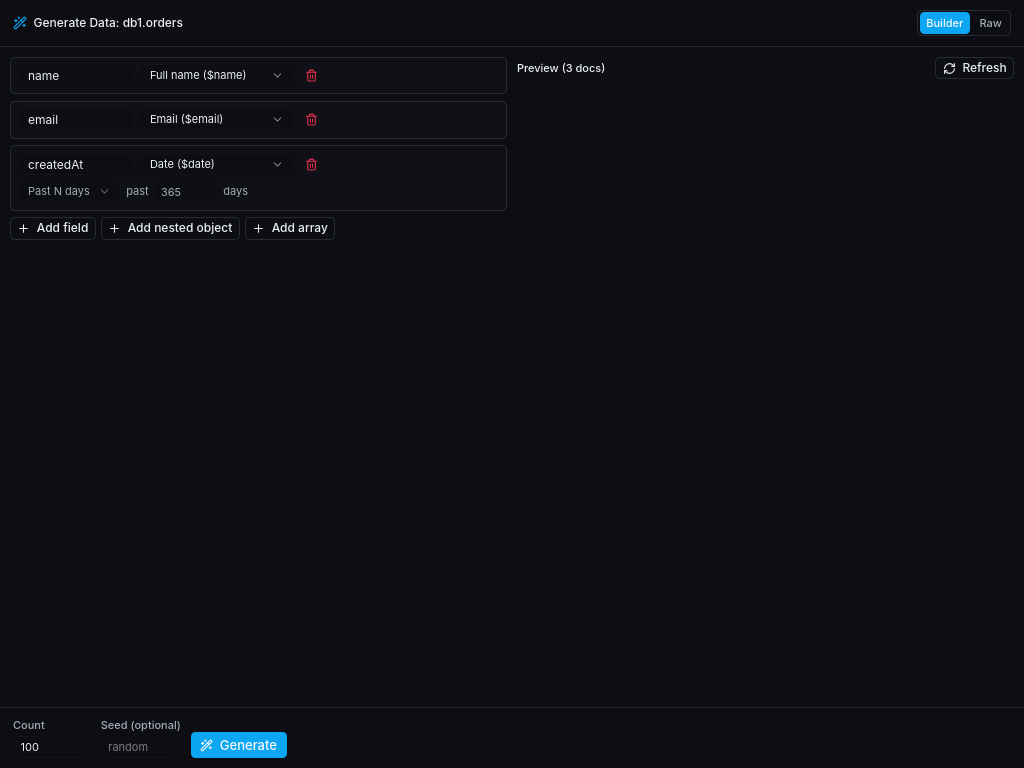
Scenario: GenerateView › seed validation › rejects a negative seed
The image size is (1024, 768).
In the field with test id "generate-seed-input": point(140, 747) x1=101 y1=736 x2=179 y2=758, type "-1"
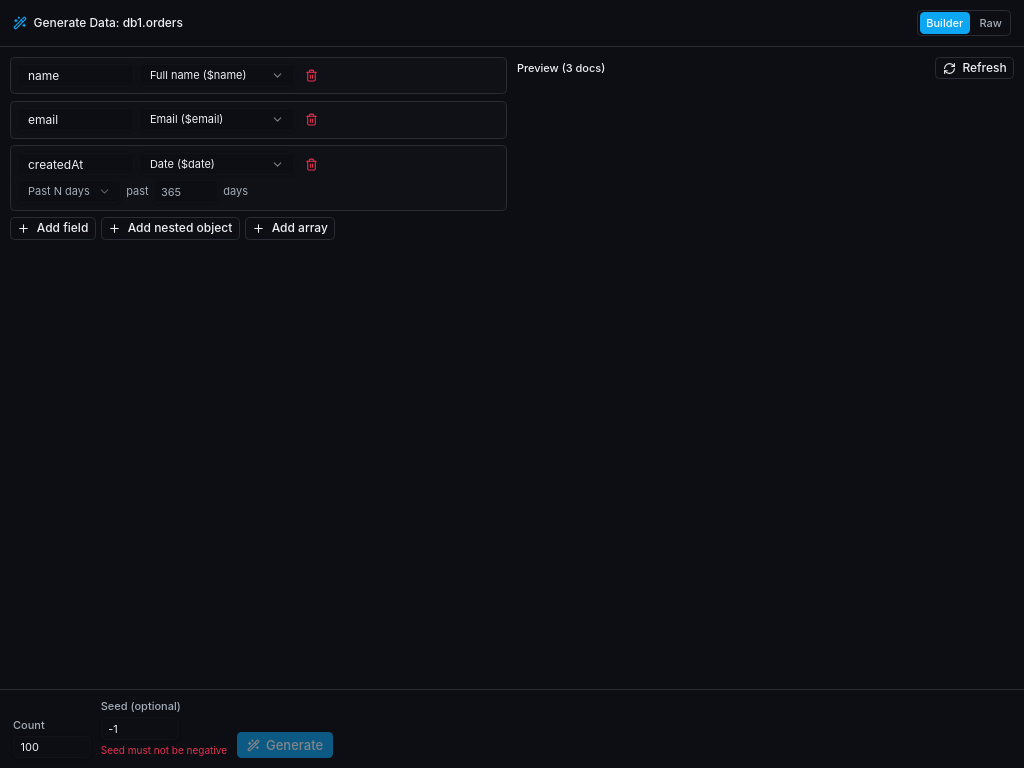
expect the text "Seed must not be negative" is shown: met, box x1=101 y1=743 x2=227 y2=758
expect the button with test id "generate-run-btn" is disabled: met, box x1=237 y1=732 x2=333 y2=758
